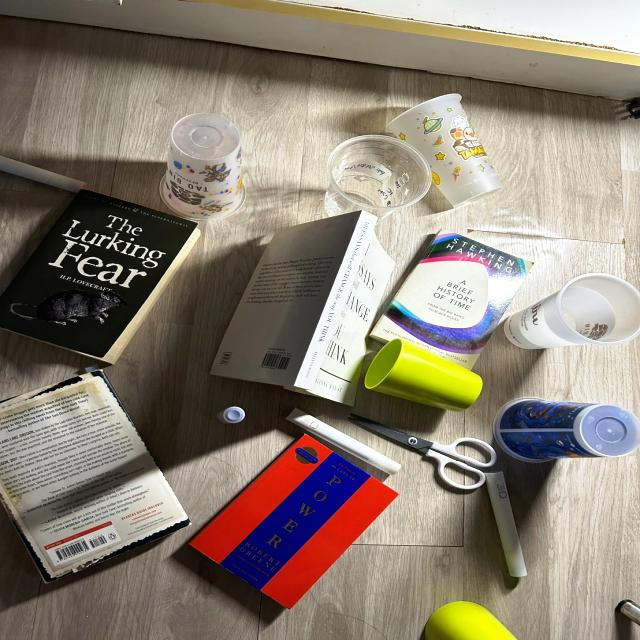Book: (0, 370, 188, 582), (208, 211, 396, 406), (0, 190, 200, 365), (371, 234, 533, 369)
HighLight Pen: (286, 409, 400, 474), (485, 471, 527, 577), (0, 156, 85, 193), (217, 406, 245, 424)
Plastic Cup: (388, 94, 500, 207), (504, 273, 639, 348), (494, 398, 639, 462), (161, 114, 244, 222), (326, 135, 430, 217)
Scissors: (348, 415, 497, 467), (429, 449, 487, 490)
WaterGlass: (364, 338, 482, 411), (424, 601, 516, 640)
